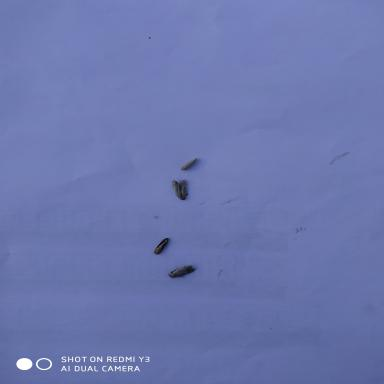pbw: (162, 258, 201, 284), (170, 153, 204, 175), (167, 178, 197, 202), (151, 234, 175, 258)
